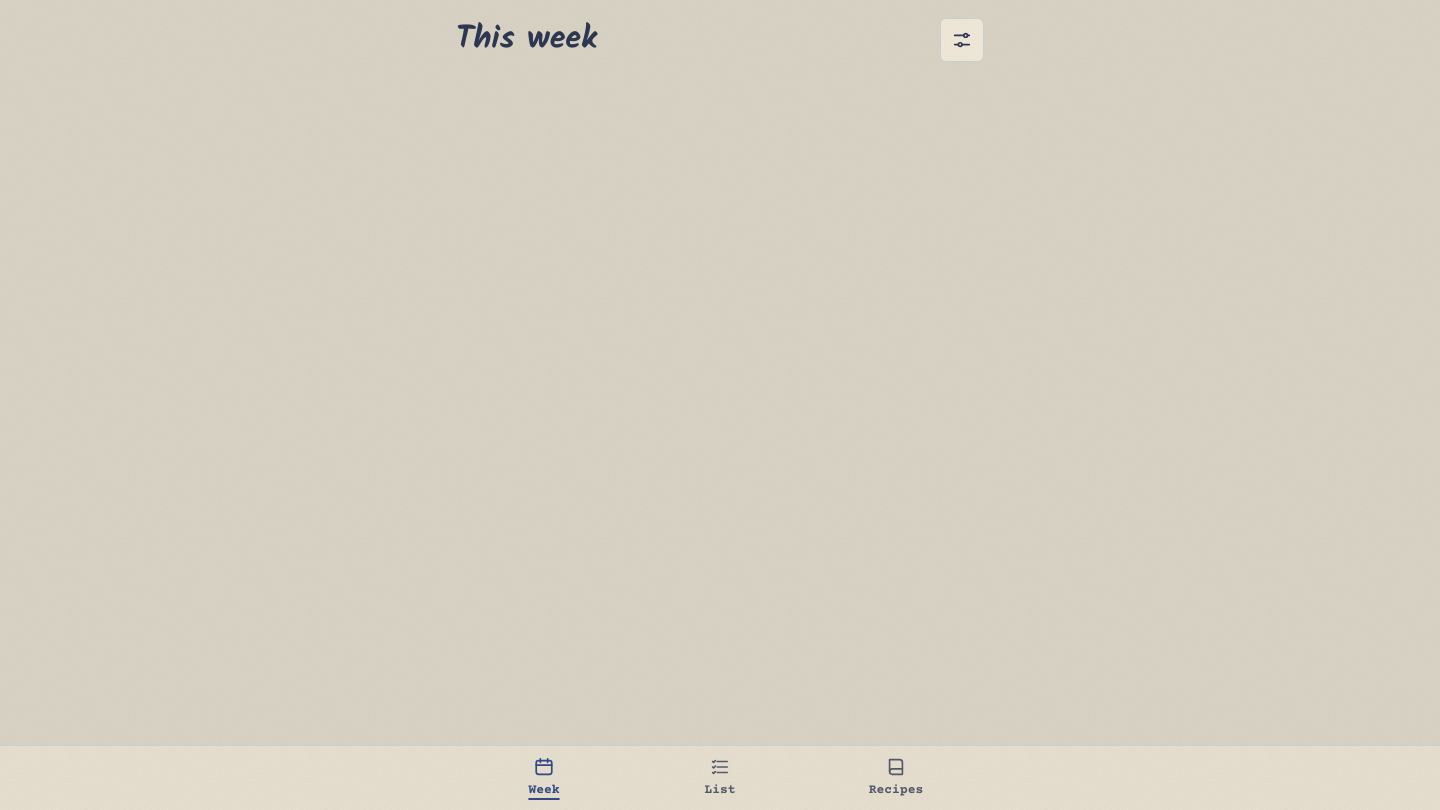
Test: App shell › signs out from settings
Click the button named "Household settings" at coordinates (962, 40), box [940, 18, 984, 62]
(page scrolled)
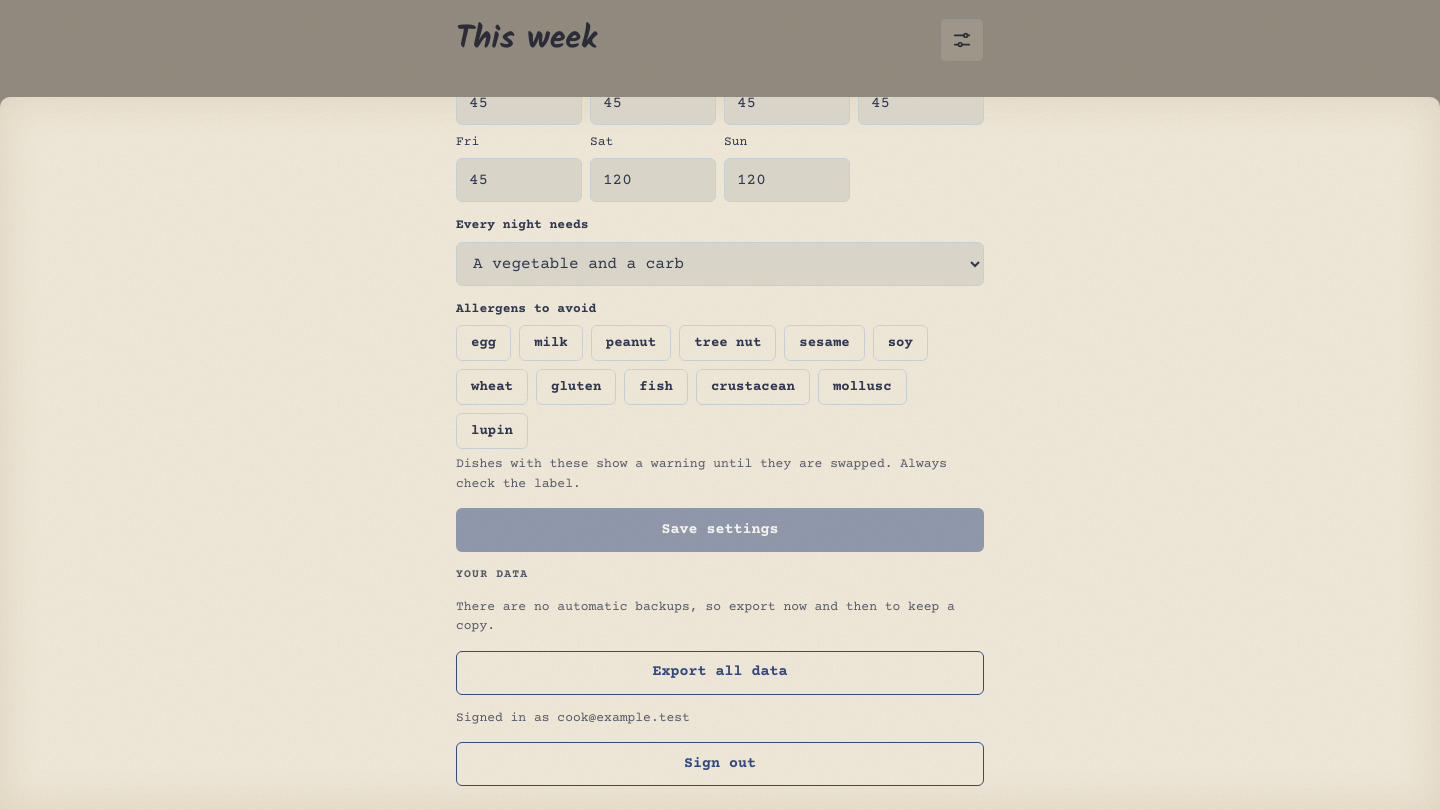
Now the text "Signed in as cook@example.test" is shown, box [456, 711, 690, 725]
Click the button "Sign out" at coordinates (720, 764), box [456, 742, 984, 786]
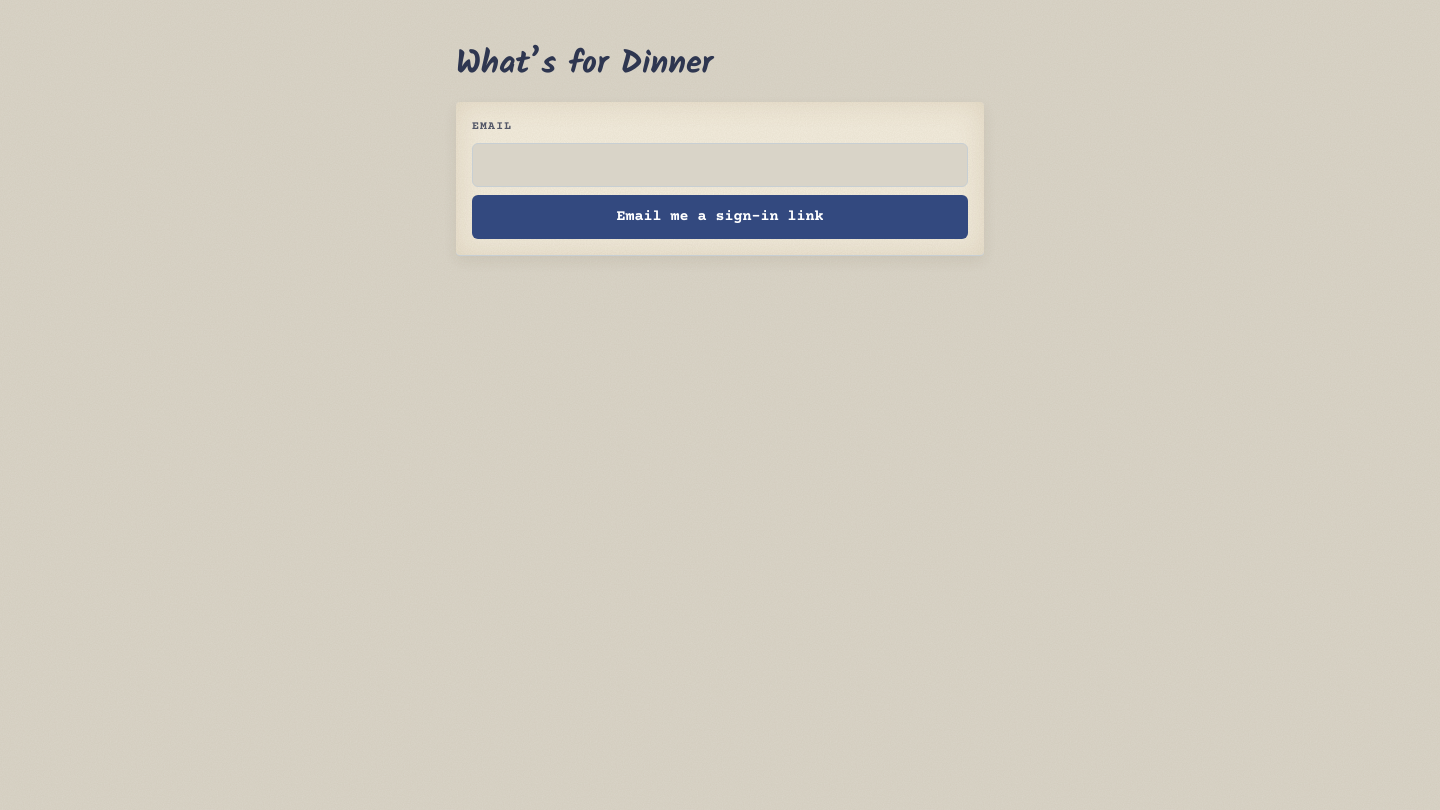
Now the button "Email me a sign-in link" is shown, box [472, 195, 968, 239]
